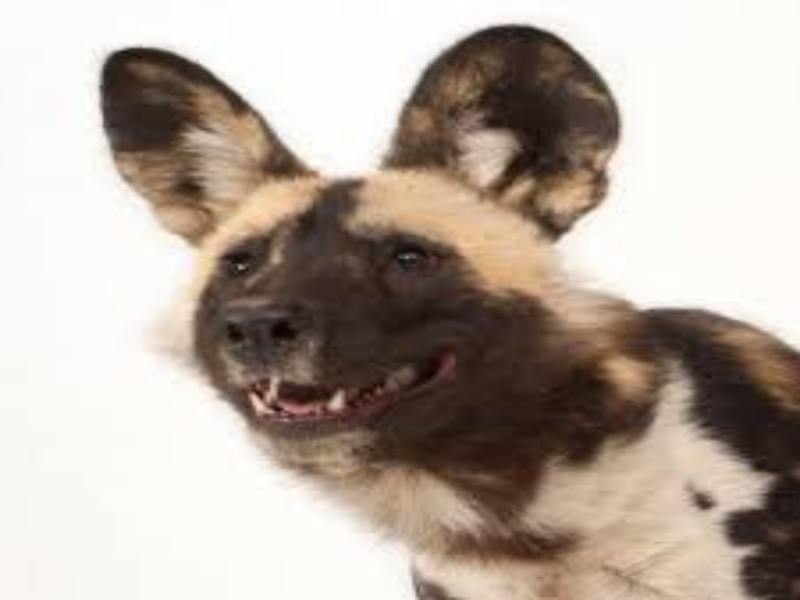dog: (95, 21, 776, 600)
